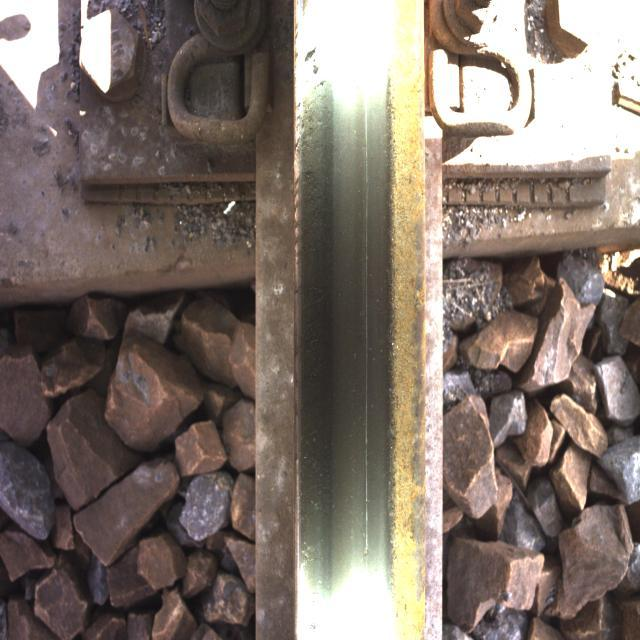normal: (304, 21, 388, 570)
